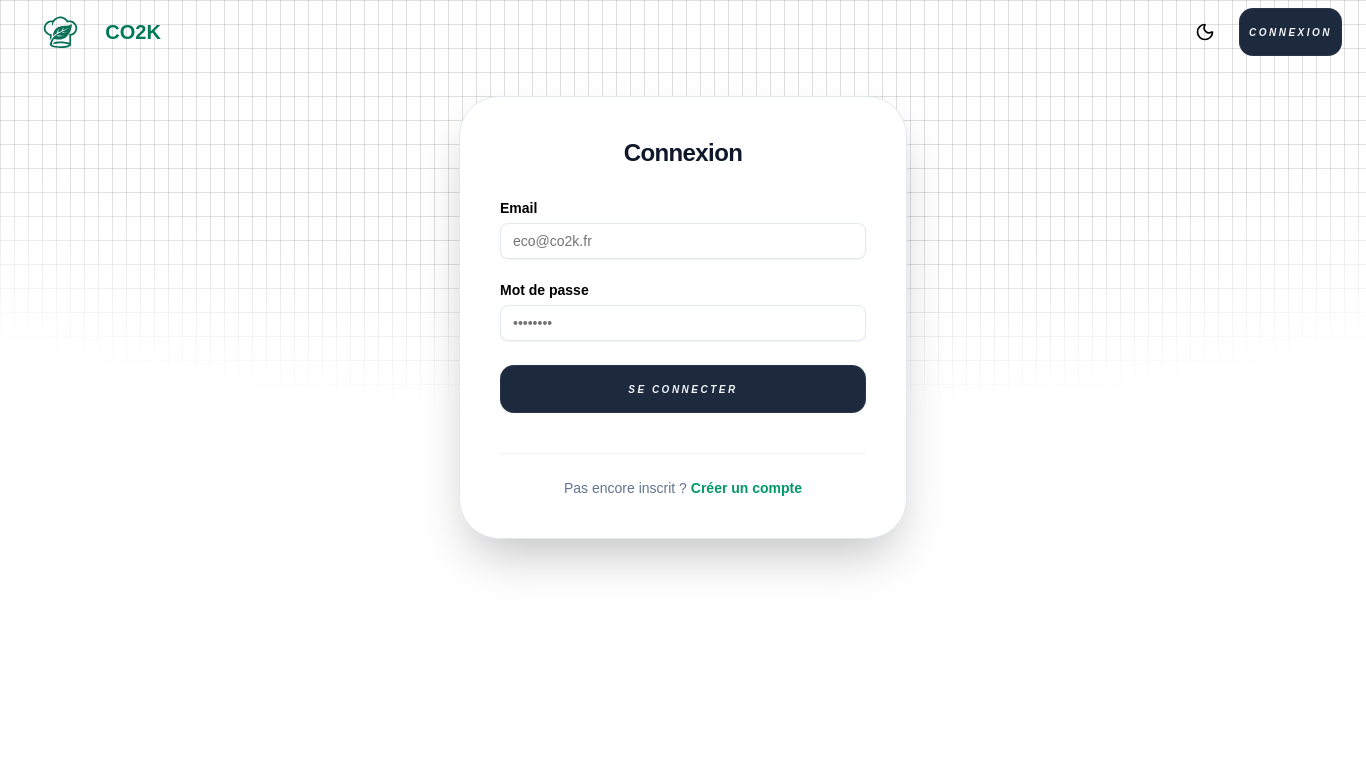
Test Connexion › Connexion réussie
This screenshot has width=1366, height=768.
Step 1. Type "test@gmail.com" into the field named "email" → (683, 241), box [500, 223, 866, 259]
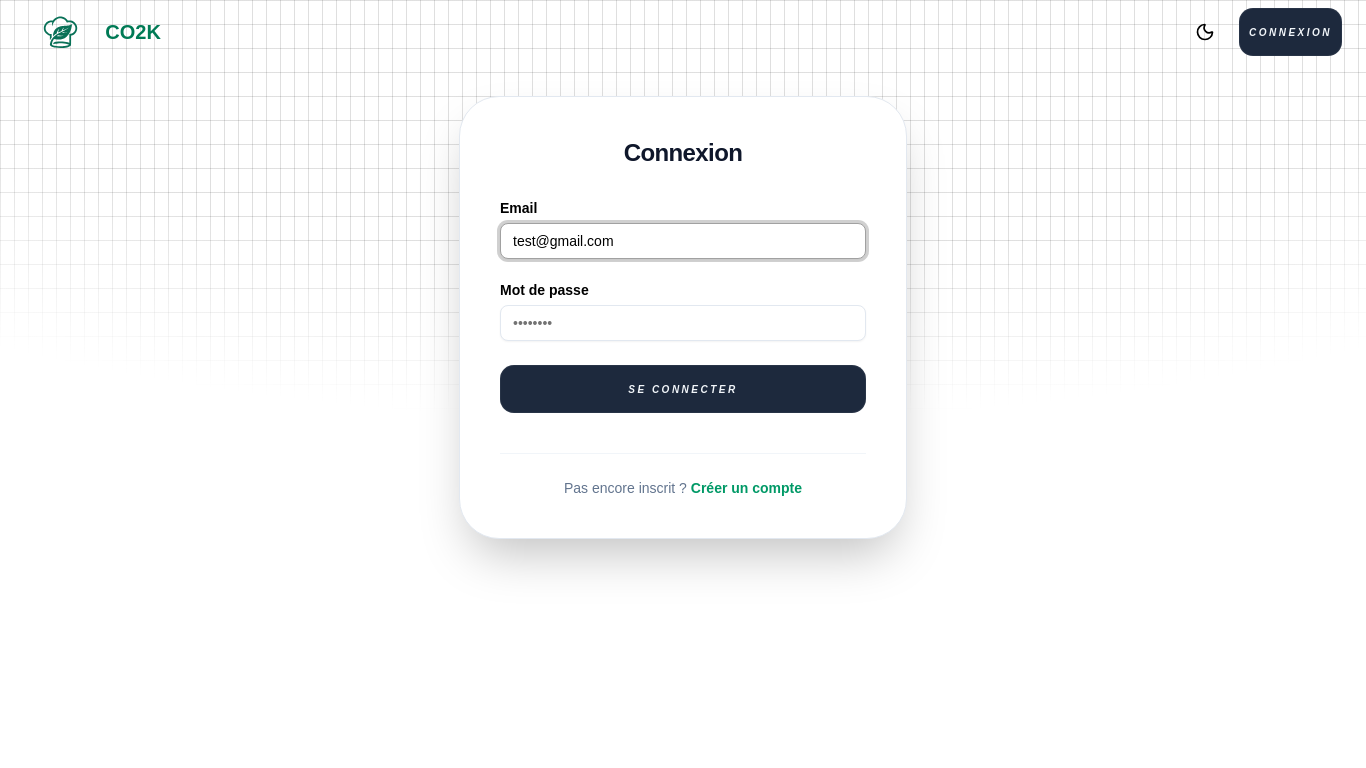
Step 2. Type "test" into the password field named "password" → (683, 323), box [500, 305, 866, 341]
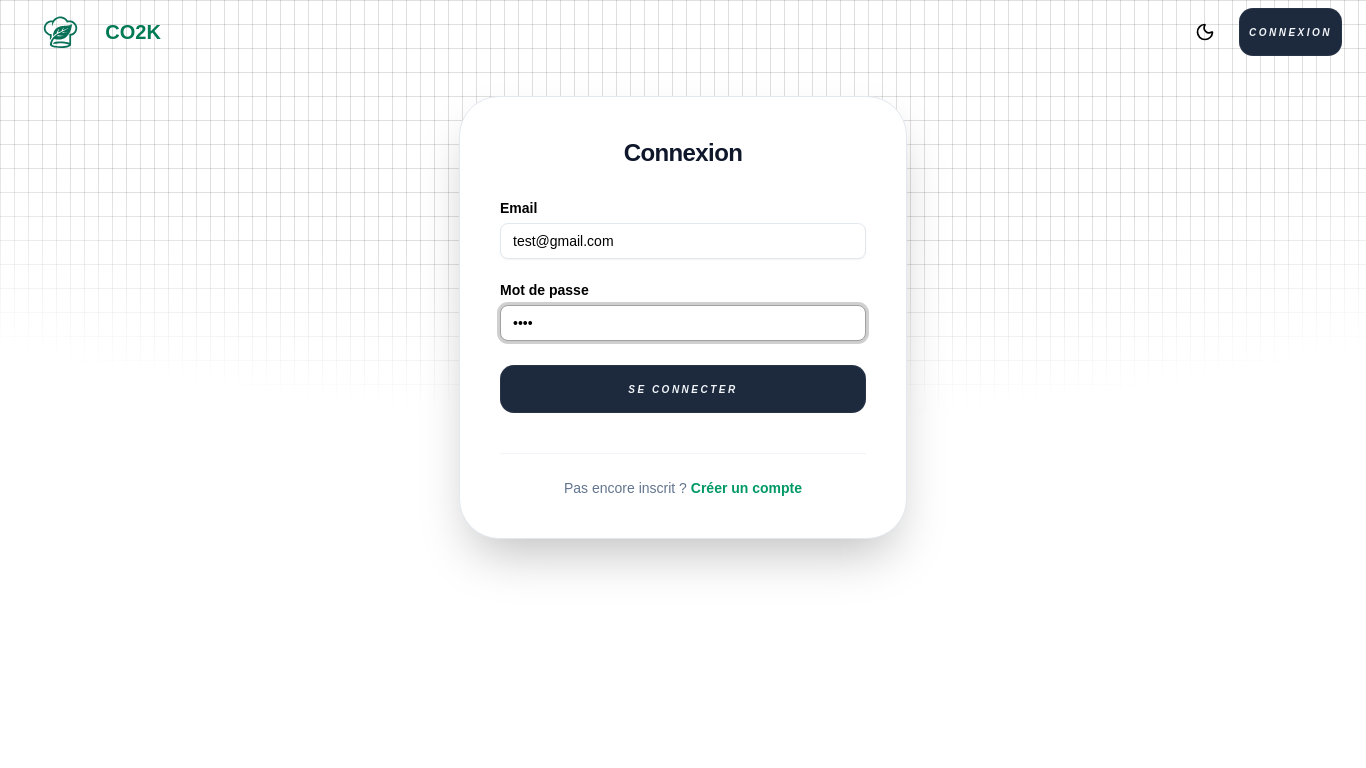
Step 3. Click the submit button → (683, 389), box [500, 365, 866, 413]
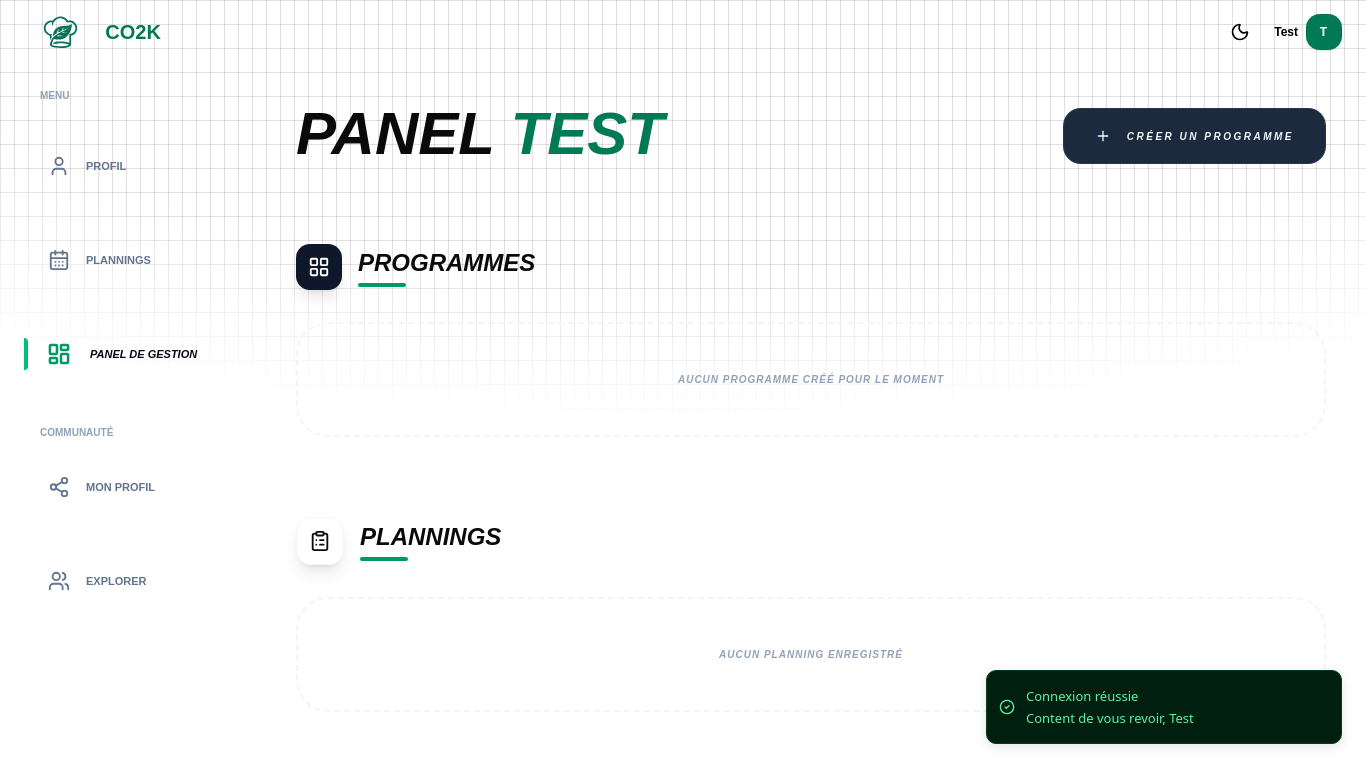
Expected: the text "Connexion réussie" is shown, [1026, 687, 1138, 705]
